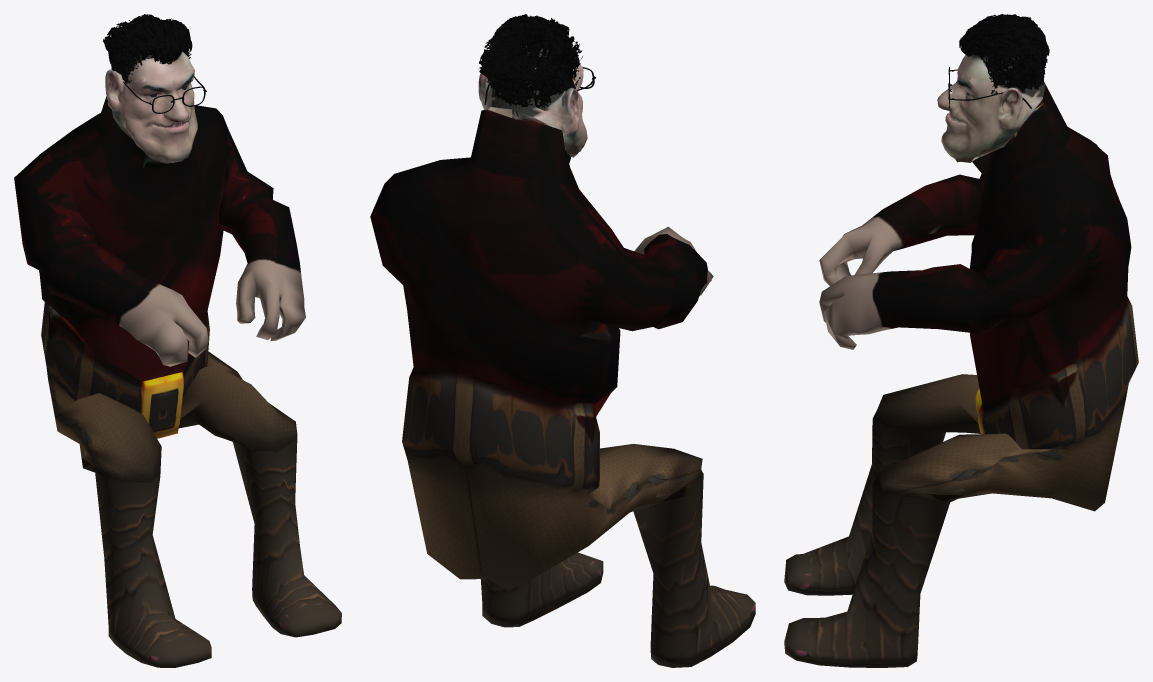
Rendered from travo.fbx.
3 views of the same model, side by side, from view 1: azimuth 30°, elevation 25°; view 2: azimuth 150°, elevation 25°; view 3: azimuth 270°, elevation 25° (orthographic). The views are drawn at different scales.
Visible parts, largest first — view 1: sniper_base.002, sniper_base.003, Curves.003; view 2: sniper_base.002, Curves.003, sniper_base.003; view 3: sniper_base.002, sniper_base.003, Curves.003.
Part boxes in pixels (left/top/right/bottom): sniper_base.002: left=14, top=96, right=341, bottom=667; sniper_base.003: left=105, top=51, right=197, bottom=163; Curves.003: left=103, top=14, right=192, bottom=83; sniper_base.002: left=370, top=109, right=755, bottom=667; Curves.003: left=478, top=14, right=582, bottom=107; sniper_base.003: left=478, top=45, right=587, bottom=157; sniper_base.002: left=784, top=82, right=1138, bottom=667; sniper_base.003: left=937, top=54, right=1045, bottom=162; Curves.003: left=959, top=14, right=1049, bottom=94.
Size of the model in its own units: 71.18 by 156 by 83.13.
Materials: 5 (2 with a texture image).
